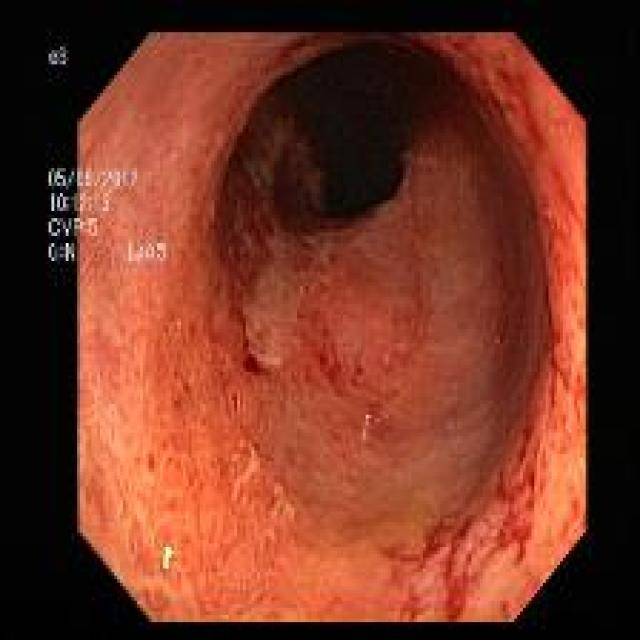ulcerative-colitis: (76, 33, 586, 622)
